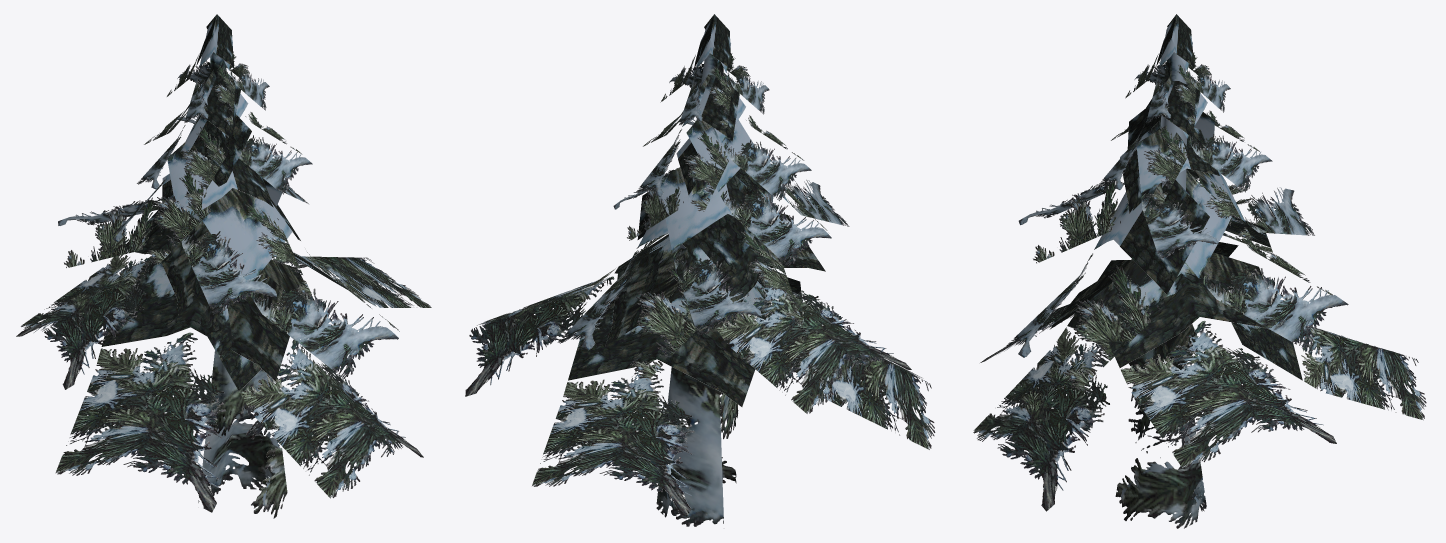
Rendered from Tree_Pine_3.FBX.
3 views of the same model, side by side, from view 1: azimuth 30°, elevation 25°; view 2: azimuth 150°, elevation 25°; view 3: azimuth 270°, elevation 25° (orthographic). The views are drawn at different scales.
Parts seen in each view (by area): view 1: polySurface279; view 2: polySurface279; view 3: polySurface279.
Boxes of the visible parts, left/top/right/bottom form: polySurface279: left=16, top=14, right=431, bottom=518; polySurface279: left=465, top=14, right=935, bottom=526; polySurface279: left=973, top=14, right=1426, bottom=528.
Bounding box in the file's own units: 0.6117 × 0.6942 × 0.5933.
